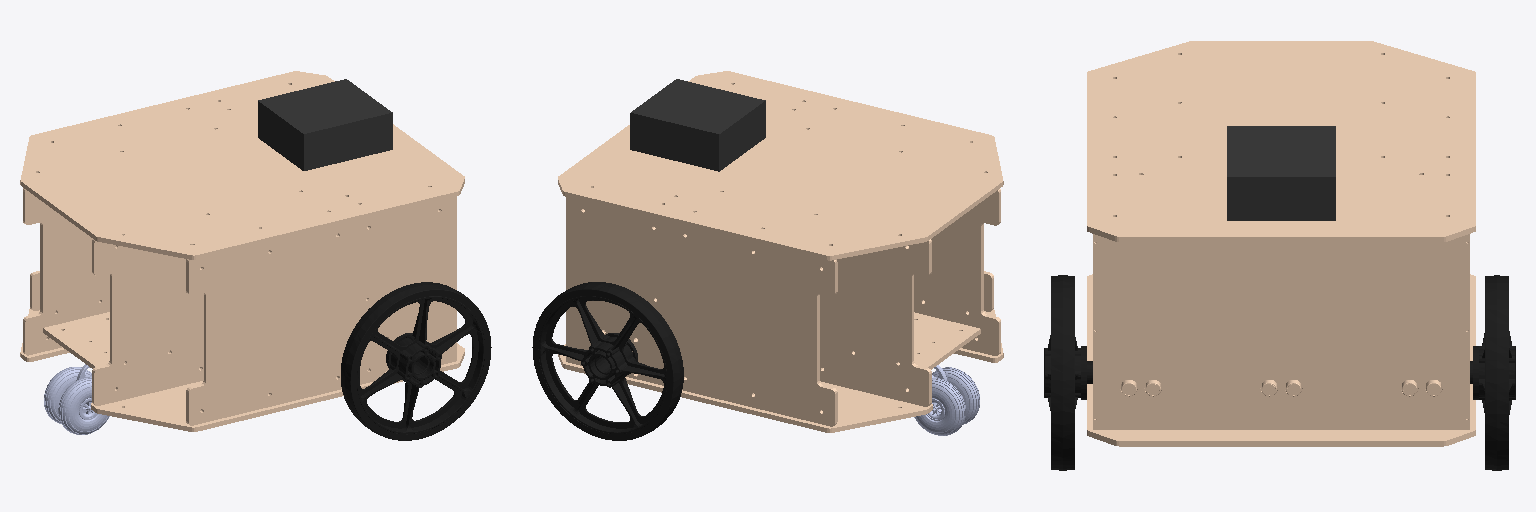
URDF robot description (final):
<robot
  name="final">
  <link
    name="base_link">
    <inertial>
      <origin
        xyz="-0.105602743604688 -1.02296779703163E-07 0.0858110294656201"
        rpy="0 0 0" />
      <mass
        value="4.14818186398938" />
      <inertia
        ixx="0.103863224222374"
        ixy="-7.29907783167067E-08"
        ixz="-0.00100162391303777"
        iyy="0.106487087467334"
        iyz="2.27140546178397E-08"
        izz="0.141688975304366" />
    </inertial>
    <visual>
      <origin
        xyz="0 0 0"
        rpy="0 0 0" />
      <geometry>
        <mesh
          filename="package://final_description/meshes/base_link.STL" />
      </geometry>
      <material
        name="">
        <color
          rgba="0.996078431372549 0.870588235294118 0.76078431372549 1" />
      </material>
    </visual>
    <collision>
      <origin
        xyz="0 0 0"
        rpy="0 0 0" />
      <geometry>
        <mesh
          filename="package://final_description/meshes/base_link.STL" />
      </geometry>
    </collision>
  </link>
  <link
    name="base_laser">
    <inertial>
      <origin
        xyz="0.0127 1.27087771103731E-19 -0.0254"
        rpy="0 0 0" />
      <mass
        value="0.7521662376" />
      <inertia
        ixx="0.000980644880738574"
        ixy="-2.68989534912001E-19"
        ixz="-1.37318069412529E-21"
        iyy="0.00117272996047087"
        iyz="-7.16140114664618E-36"
        izz="0.0018298631279761" />
    </inertial>
    <visual>
      <origin
        xyz="0 0 0"
        rpy="0 0 0" />
      <geometry>
        <mesh
          filename="package://final_description/meshes/base_laser.STL" />
      </geometry>
      <material
        name="">
        <color
          rgba="0.250980392156863 0.250980392156863 0.250980392156863 1" />
      </material>
    </visual>
    <collision>
      <origin
        xyz="0 0 0"
        rpy="0 0 0" />
      <geometry>
        <mesh
          filename="package://final_description/meshes/base_laser.STL" />
      </geometry>
    </collision>
  </link>
  <joint
    name="laser_joint"
    type="fixed">
    <origin
      xyz="-0.0109499999999999 0 0.25575"
      rpy="1.45390373192998E-33 -3.44227613947609E-17 -4.22366966803326E-17" />
    <parent
      link="base_link" />
    <child
      link="base_laser" />
    <axis
      xyz="0 0 0" />
  </joint>
  <link
    name="left_wheel_link">
    <inertial>
      <origin
        xyz="-1.02697830889065E-05 0.0207696125417688 -1.29881572009244E-06"
        rpy="0 0 0" />
      <mass
        value="0.360809172043754" />
      <inertia
        ixx="0.00106675827256857"
        ixy="1.00199366250099E-07"
        ixz="-5.46170508884832E-09"
        iyy="0.00202538580830831"
        iyz="7.42904254208583E-09"
        izz="0.00106727492610413" />
    </inertial>
    <visual>
      <origin
        xyz="0 0 0"
        rpy="0 0 0" />
      <geometry>
        <mesh
          filename="package://final_description/meshes/left_wheel_link.STL" />
      </geometry>
      <material
        name="">
        <color
          rgba="0.15 0.15 0.15 1" />
      </material>
    </visual>
    <collision>
      <origin
        xyz="0 0 0"
        rpy="0 0 0" />
      <geometry>
        <mesh
          filename="package://final_description/meshes/left_wheel_link.STL" />
      </geometry>
    </collision>
  </link>
  <joint
    name="left_wheel_joint"
    type="continuous">
    <origin
      xyz="0 0.1997875 0"
      rpy="0 -3.44227613947609E-17 0" />
    <parent
      link="base_link" />
    <child
      link="left_wheel_link" />
    <axis
      xyz="0 -1 0" />
  </joint>
  <link
    name="right_wheel_link">
    <inertial>
      <origin
        xyz="-7.84481351270849E-06 -0.0207696125417685 -2.84905793875717E-06"
        rpy="0 0 0" />
      <mass
        value="0.360809172043695" />
      <inertia
        ixx="0.00106697353985248"
        ixy="-9.44069048271713E-08"
        ixz="-2.70312200163103E-07"
        iyy="0.00202538582183835"
        iyz="-1.71229823500517E-08"
        izz="0.00106705967235024" />
    </inertial>
    <visual>
      <origin
        xyz="0 0 0"
        rpy="0 0 0" />
      <geometry>
        <mesh
          filename="package://final_description/meshes/right_wheel_link.STL" />
      </geometry>
      <material
        name="">
        <color
          rgba="0.15 0.15 0.15 1" />
      </material>
    </visual>
    <collision>
      <origin
        xyz="0 0 0"
        rpy="0 0 0" />
      <geometry>
        <mesh
          filename="package://final_description/meshes/right_wheel_link.STL" />
      </geometry>
    </collision>
  </link>
  <joint
    name="right_wheel_joint"
    type="continuous">
    <origin
      xyz="0 -0.202910199564064 0"
      rpy="0 -3.44227613947609E-17 0" />
    <parent
      link="base_link" />
    <child
      link="right_wheel_link" />
    <axis
      xyz="0 1 0" />
  </joint>
  <link
    name="rear_caster_link">
    <inertial>
      <origin
        xyz="-0.0368798722263375 -0.000283567685018335 -0.055448419537839"
        rpy="0 0 0" />
      <mass
        value="0.176949617511378" />
      <inertia
        ixx="0.000127393495355047"
        ixy="6.33658096704423E-08"
        ixz="1.19906046209144E-05"
        iyy="0.000135634398834192"
        iyz="9.21858894693954E-08"
        izz="0.000122569009242498" />
    </inertial>
    <visual>
      <origin
        xyz="0 0 0"
        rpy="0 0 0" />
      <geometry>
        <mesh
          filename="package://final_description/meshes/rear_caster_link.STL" />
      </geometry>
      <material
        name="">
        <color
          rgba="0.796078431372549 0.823529411764706 0.937254901960784 1" />
      </material>
    </visual>
    <collision>
      <origin
        xyz="0 0 0"
        rpy="0 0 0" />
      <geometry>
        <mesh
          filename="package://final_description/meshes/rear_caster_link.STL" />
      </geometry>
    </collision>
  </link>
  <joint
    name="rear_caster_joint"
    type="continuous">
    <origin
      xyz="-0.311952216057906 0 -0.00604000000000001"
      rpy="-3.04704848392389E-33 -1.0830817995158E-17 8.85184209651363E-17" />
    <parent
      link="base_link" />
    <child
      link="rear_caster_link" />
    <axis
      xyz="0 0 -1" />
  </joint>
</robot>

--- What the picture shows (computed from the rendered views, not written in the file) ---
3 views of the same robot in one strip: view 1: azimuth 30°, elevation 25°; view 2: azimuth 150°, elevation 25°; view 3: azimuth 270°, elevation 25° (orthographic).
Model final with 5 links and 4 joints (3 continuous, 1 fixed), rooted at base_link, posed all joints at 0.
Visible links, largest first — view 1: base_link, right_wheel_link, base_laser, rear_caster_link; view 2: base_link, left_wheel_link, base_laser, rear_caster_link; view 3: base_link, base_laser, right_wheel_link, left_wheel_link.
Link boxes in pixels (<box>): base_link: <box>20,71,464,431</box>; right_wheel_link: <box>341,282,491,440</box>; base_laser: <box>258,79,392,170</box>; rear_caster_link: <box>44,364,109,434</box>; base_link: <box>558,71,1003,432</box>; left_wheel_link: <box>532,282,683,440</box>; base_laser: <box>630,79,765,171</box>; rear_caster_link: <box>914,365,979,435</box>; base_link: <box>1087,41,1475,446</box>; base_laser: <box>1227,126,1335,220</box>; right_wheel_link: <box>1044,275,1092,470</box>; left_wheel_link: <box>1470,275,1515,470</box>.
Bounding box of the posed robot: 0.492 × 0.4909 × 0.3579 m (x, y, z).
Meshes: 5 distinct files referenced, 5 mesh visuals loaded (5 binary STL).